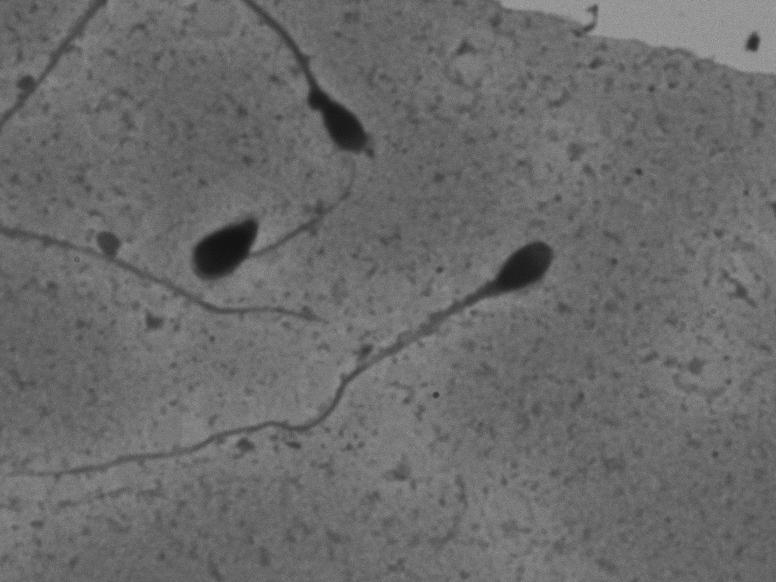Abnormal: (175, 157, 357, 306)
Normal: (19, 223, 564, 488)
